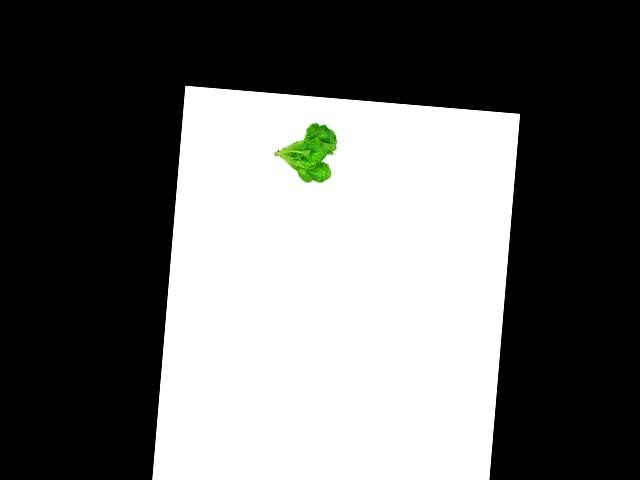lettuce: (270, 116, 342, 187)
